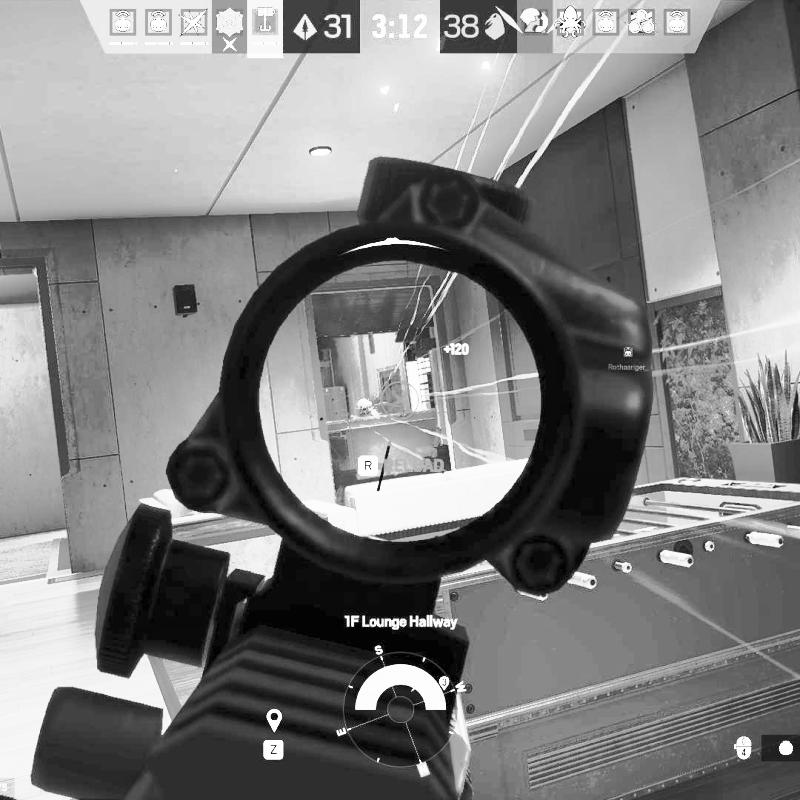Character: (356, 398, 379, 416)
Friend_label: (607, 345, 647, 371)
Head: (359, 399, 374, 413)
